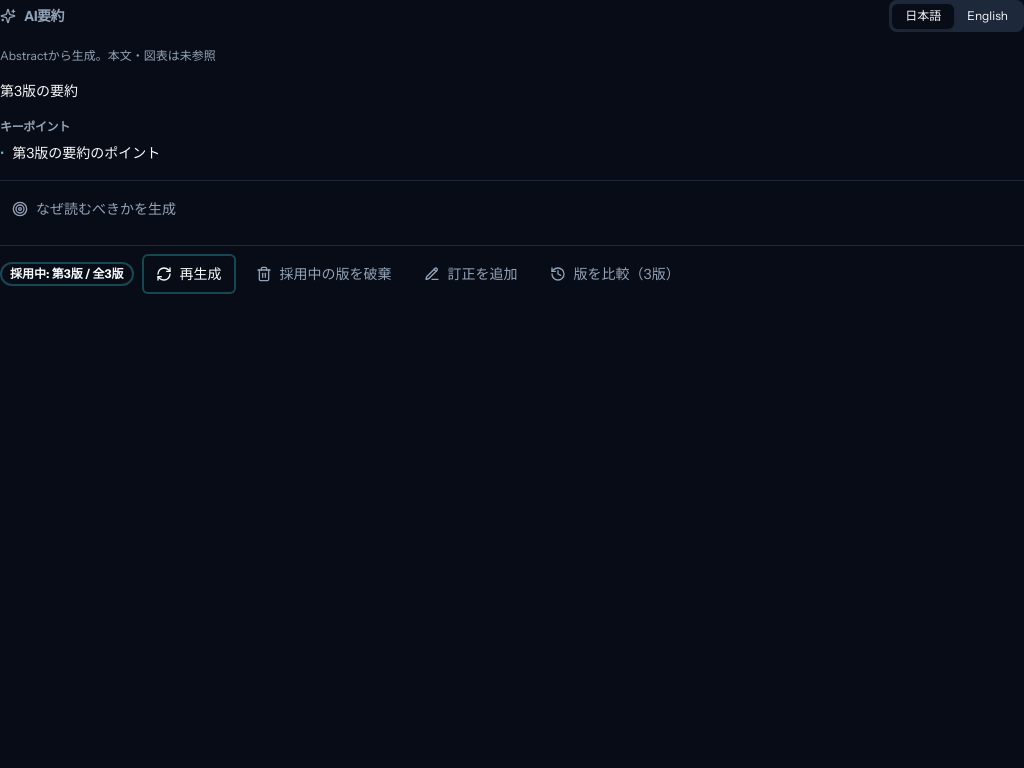
PaperSummary › 版の再生成・破棄・比較 › 正常系: 採用版を破棄すると残りの最新の版を表示し、見出しへフォーカスを戻す
Step 1. Click the button "採用中の版を破棄" → point(324, 274), box top-left (244, 254), bottom-right (404, 294)
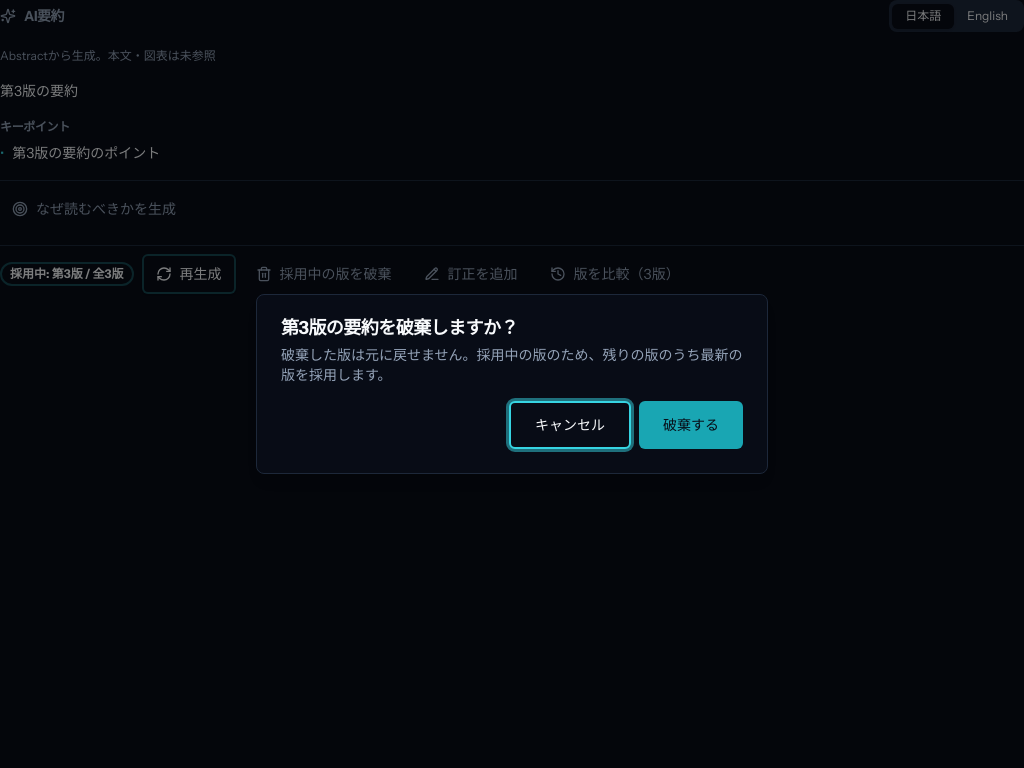
Step 2. Click the button "破棄する" → point(691, 425), box top-left (639, 401), bottom-right (743, 449)
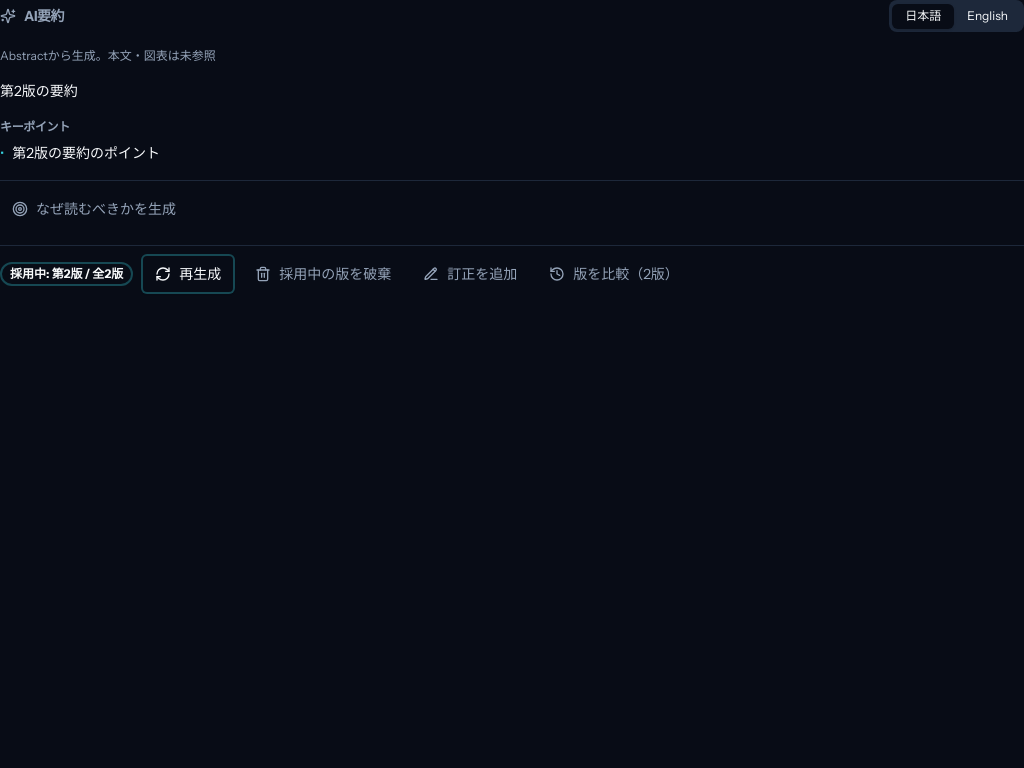
Result: the text "採用中: 第2版 / 全2版" is shown at top-left (0, 262), bottom-right (133, 286)
Result: the text "第2版の要約" is shown at top-left (0, 82), bottom-right (78, 100)
